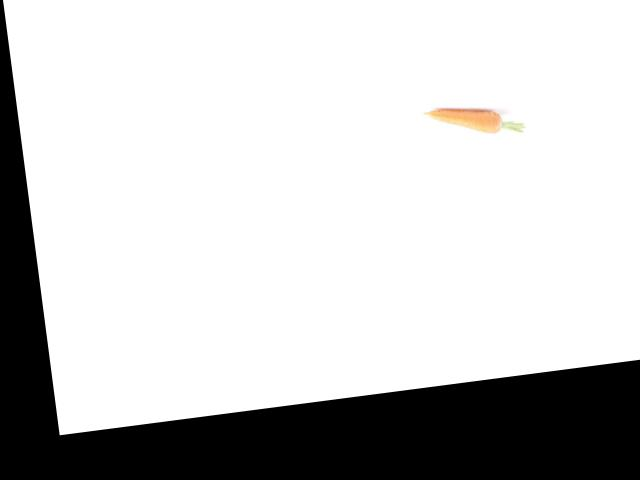carrot: (419, 92, 513, 151)
